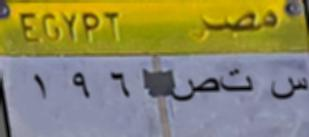1: (29, 68, 52, 103)
6: (107, 69, 133, 100)
9: (68, 64, 95, 104)
saad: (162, 68, 222, 102)
seen: (268, 65, 309, 106)
taa: (220, 66, 256, 95)
